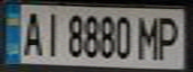0: (115, 12, 136, 61)
8: (63, 10, 84, 58), (81, 11, 100, 58), (100, 11, 118, 60)
A: (18, 7, 45, 57)
I: (39, 8, 63, 57)
M: (133, 12, 163, 61)
P: (154, 12, 187, 61)
